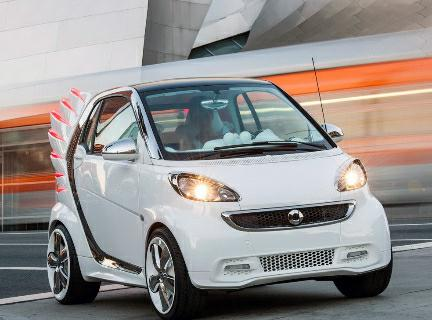smart-forjeremy: (30, 71, 414, 318)
